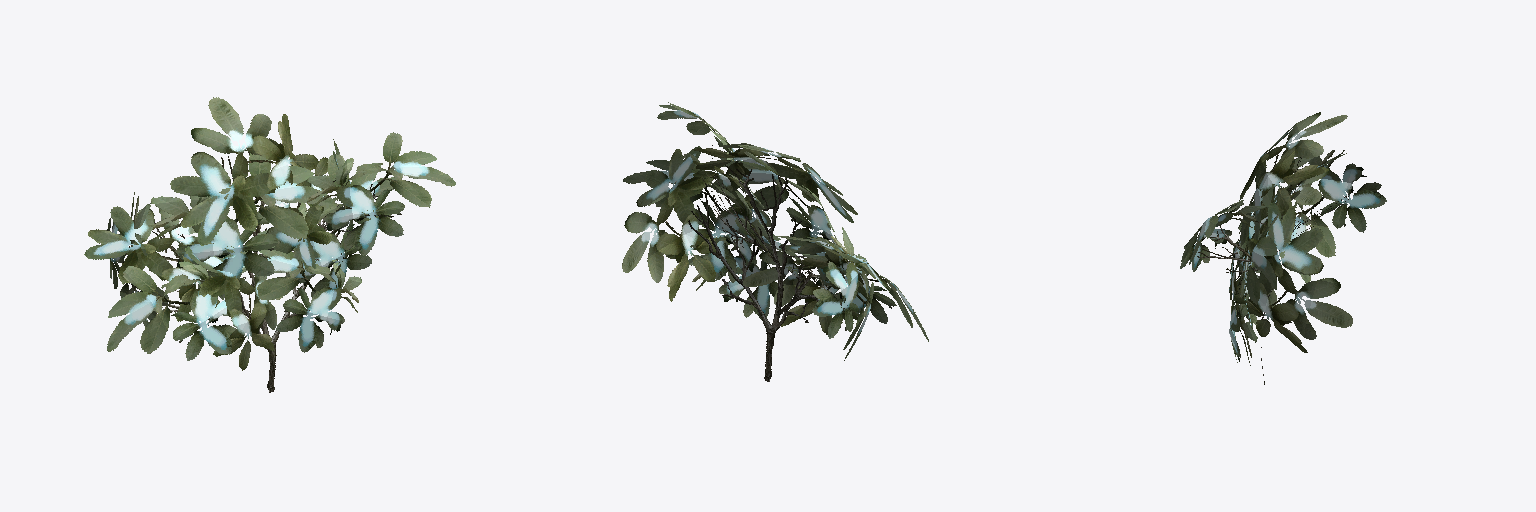
3 views of the same model, side by side, from view 1: azimuth 30°, elevation 25°; view 2: azimuth 150°, elevation 25°; view 3: azimuth 270°, elevation 25° (orthographic).
Visible parts, largest first — view 1: bushes01_01_snow; view 2: bushes01_01_snow; view 3: bushes01_01_snow.
Boxes of the visible parts, box(x1,y1,x2,y2) form: bushes01_01_snow: box(84, 97, 455, 392); bushes01_01_snow: box(622, 102, 928, 381); bushes01_01_snow: box(1180, 112, 1386, 384).
Size of the model in its own units: 81.84 by 62.51 by 48.67.
1 materials, 1 textured.